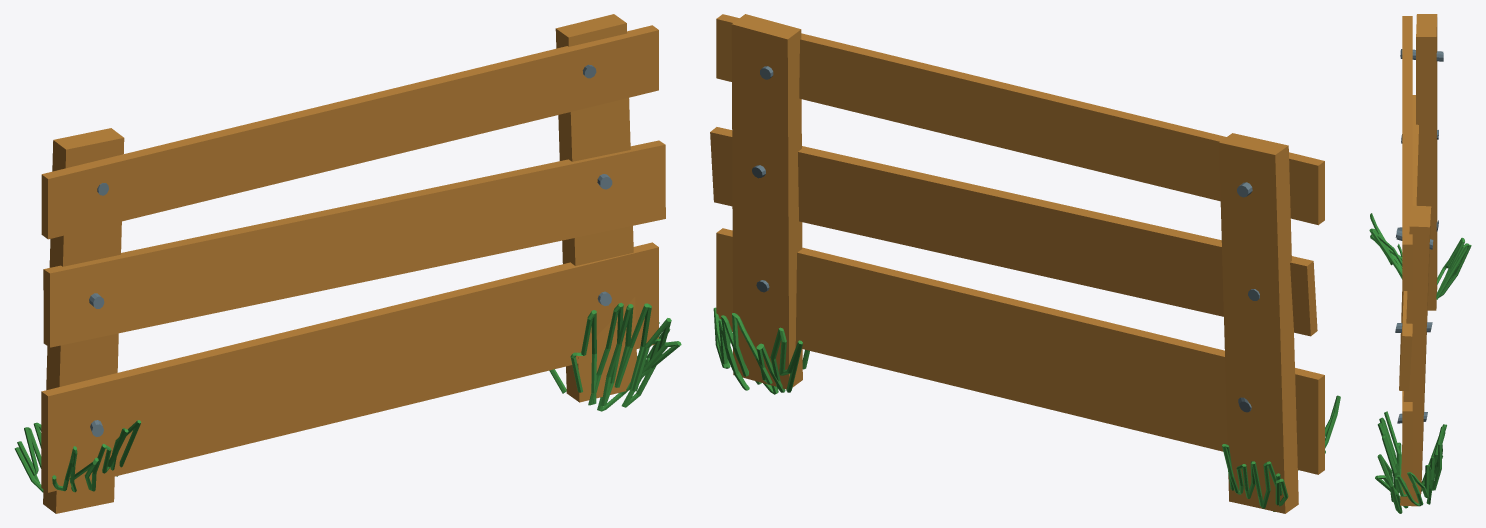
3 views of the same model, side by side, from view 1: azimuth 30°, elevation 25°; view 2: azimuth 150°, elevation 25°; view 3: azimuth 270°, elevation 25° (orthographic). The views are drawn at different scales.
Visible parts, largest first — view 1: node_MeshObject184385536-PolyPaper19; view 2: node_MeshObject184385536-PolyPaper19; view 3: node_MeshObject184385536-PolyPaper19.
Boxes of the visible parts, x1,y1,x2,y2 form: node_MeshObject184385536-PolyPaper19: (14, 14, 681, 513); node_MeshObject184385536-PolyPaper19: (710, 14, 1340, 513); node_MeshObject184385536-PolyPaper19: (1369, 14, 1471, 513).
Bounding box in the file's own units: 1.07 × 0.6396 × 0.2005.
